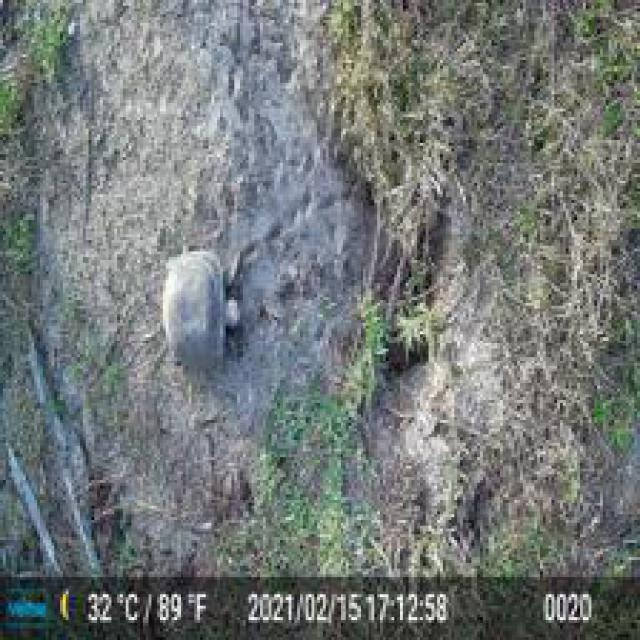tortoise: (157, 248, 237, 368)
